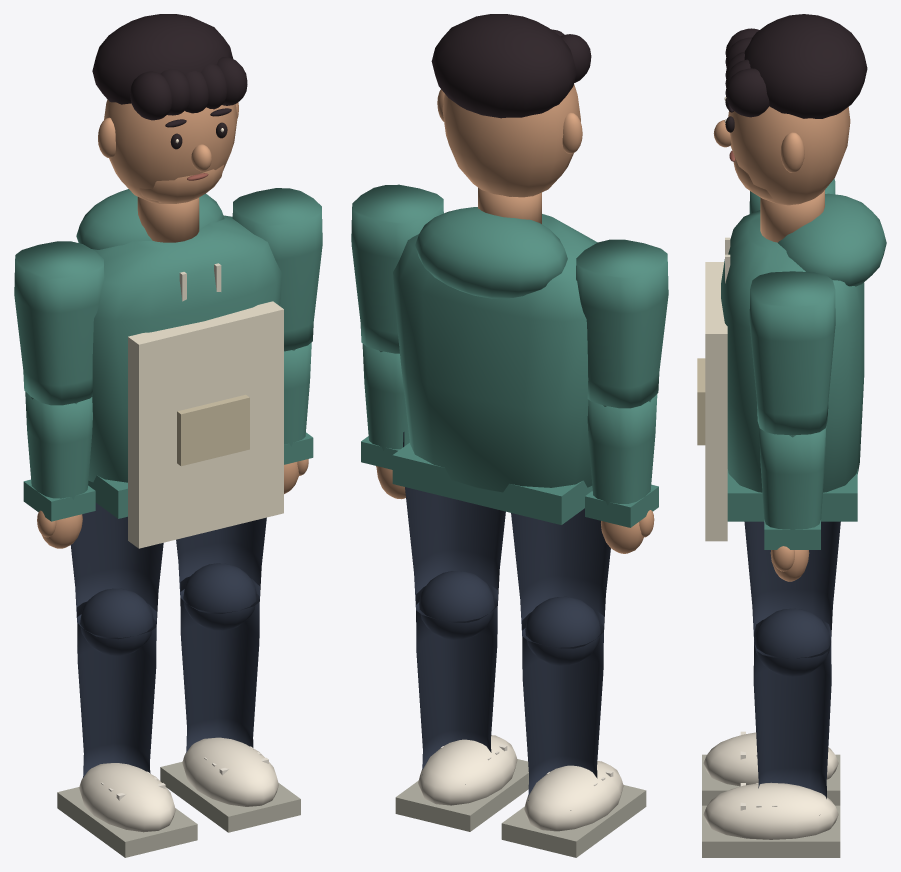
File: cashier.glb
3 views of the same model, side by side, from view 1: azimuth 30°, elevation 25°; view 2: azimuth 150°, elevation 25°; view 3: azimuth 270°, elevation 25° (orthographic). The views are drawn at different scales.
Parts seen in each view (by area): view 1: Apron, Hoodie, Upper sleeve, Trouser shin.001, Trouser shin, Upper sleeve.001, Head, Hair, Trouser thigh, Lower sleeve, Sneaker.001, Sneaker (+20 smaller); view 2: Hoodie, Upper sleeve, Hair, Hood, Head, Trouser shin, Trouser shin.001, Upper sleeve.001, Trouser thigh, Trouser thigh.001, Lower sleeve, Hoodie hem (+13 smaller); view 3: Hoodie, Upper sleeve.001, Hair, Trouser shin.001, Head, Hood, Sneaker.001, Apron, Trouser thigh.001, Lower sleeve.001, Knee joint.001, Shoe sole.001 (+11 smaller).
Part boxes in pixels (x1,y1,x2,y2): Apron: [128, 301, 283, 548]; Hoodie: [88, 215, 282, 482]; Upper sleeve: [14, 241, 104, 405]; Trouser shin.001: [180, 576, 259, 752]; Trouser shin: [77, 601, 156, 777]; Upper sleeve.001: [232, 188, 322, 351]; Head: [104, 99, 237, 203]; Hair: [92, 14, 233, 104]; Trouser thigh: [70, 503, 163, 639]; Lower sleeve: [25, 392, 92, 499]; Sneaker.001: [182, 737, 278, 806]; Sneaker: [79, 763, 175, 832]; Hoodie: [393, 214, 597, 492]; Upper sleeve: [576, 239, 668, 408]; Hair: [431, 14, 576, 118]; Hood: [415, 207, 567, 298]; Head: [442, 84, 580, 197]; Trouser shin: [522, 610, 603, 810]; Trouser shin.001: [416, 584, 497, 784]; Upper sleeve.001: [351, 184, 443, 353]; Trouser thigh: [511, 508, 610, 648]; Trouser thigh.001: [403, 432, 505, 622]; Lower sleeve: [587, 394, 657, 505]; Hoodie hem: [392, 442, 592, 524]; Hoodie: [721, 210, 864, 492]; Upper sleeve.001: [749, 271, 835, 435]; Hair: [744, 14, 867, 118]; Trouser shin.001: [753, 620, 831, 815]; Head: [728, 106, 850, 205]; Hood: [778, 193, 886, 286]; Sneaker.001: [703, 782, 838, 839]; Apron: [705, 262, 727, 541]; Trouser thigh.001: [744, 521, 840, 658]; Lower sleeve.001: [759, 426, 826, 529]; Knee joint.001: [754, 608, 831, 676]; Shoe sole.001: [702, 805, 840, 857].
Size of the model in its own units: 0.762 by 1.95 by 0.423.
